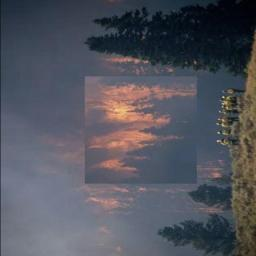Large fire: (84, 75, 191, 183)
Low smoke: (0, 0, 162, 255)
